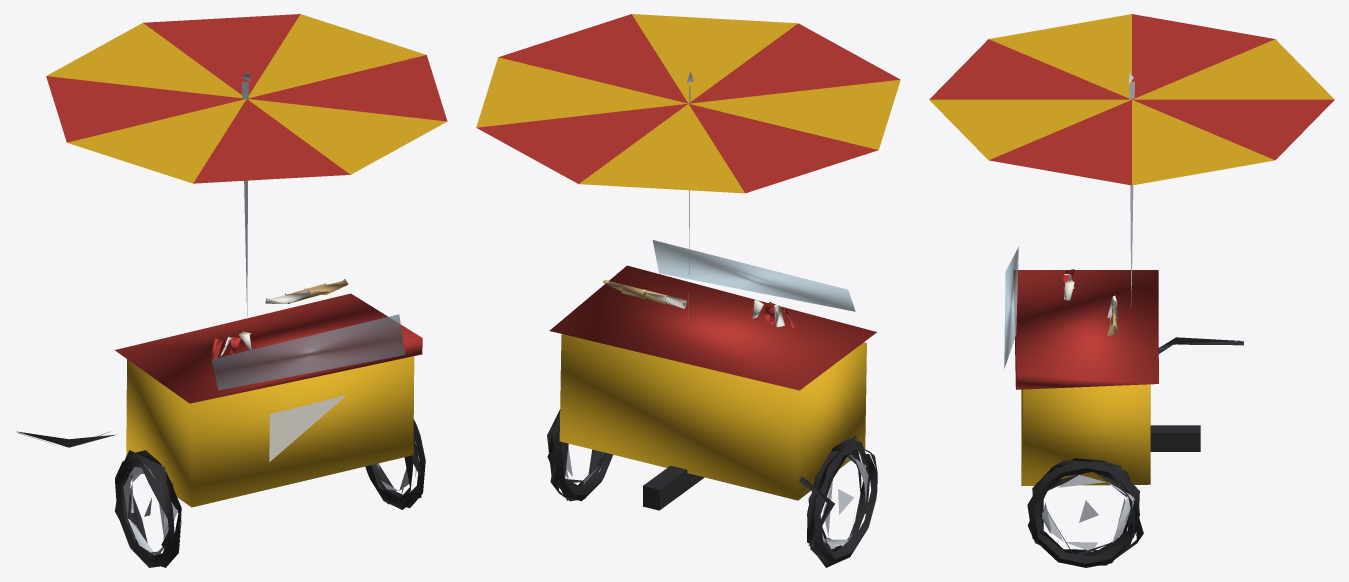
File: lod_hotdog_cart.glb
The picture shows the model from 3 angles, left to right: view 1: azimuth 30°, elevation 25°; view 2: azimuth 150°, elevation 25°; view 3: azimuth 270°, elevation 25°; orthographic projection. The views are drawn at different scales.
Parts seen in each view (by area): view 1: hotdog_cart; view 2: hotdog_cart; view 3: hotdog_cart.
Part boxes in pixels (left/top/right/bottom): hotdog_cart: left=16, top=14, right=447, bottom=567; hotdog_cart: left=476, top=14, right=900, bottom=567; hotdog_cart: left=929, top=14, right=1334, bottom=567.
Bounding box in the file's own units: 2.3 × 2.74 × 2.3.
